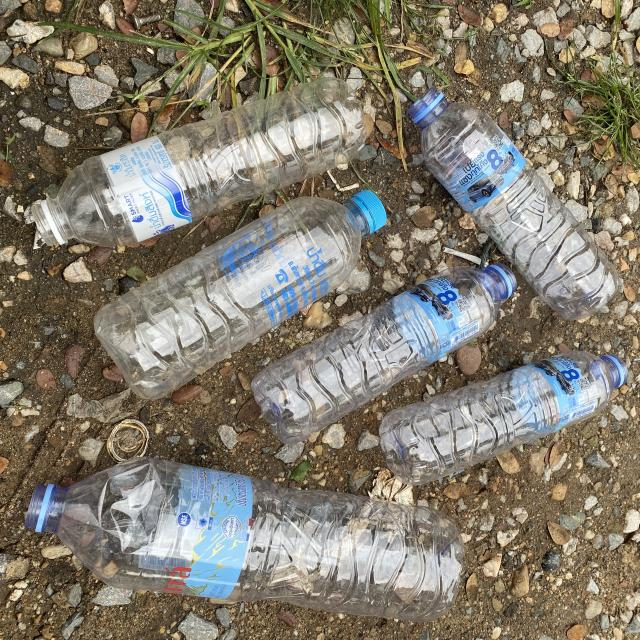plastik: (25, 458, 464, 622), (95, 190, 386, 400), (29, 78, 366, 248), (409, 88, 620, 320), (251, 264, 516, 444), (379, 351, 628, 485)
